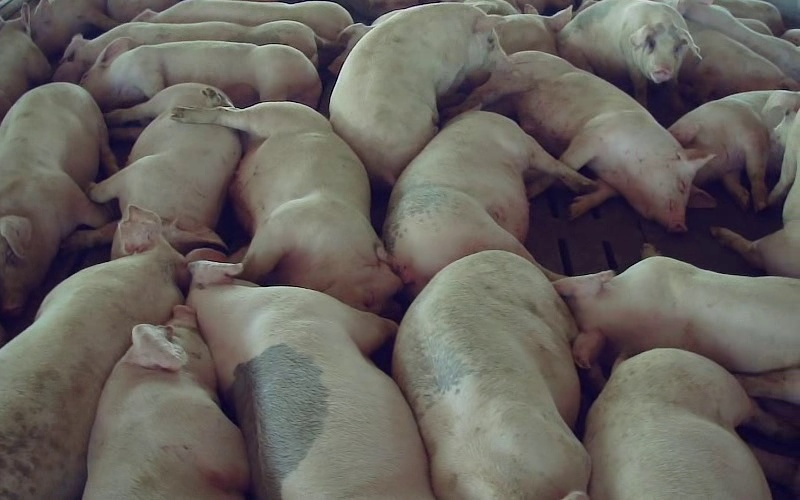pig: (0, 206, 224, 499), (188, 261, 432, 499), (393, 251, 589, 499), (174, 102, 400, 311), (463, 51, 710, 230), (383, 112, 592, 293), (83, 305, 249, 499), (330, 3, 505, 185), (584, 348, 786, 499), (554, 257, 799, 372), (0, 83, 115, 314), (90, 84, 240, 252), (81, 38, 321, 111), (53, 20, 317, 82), (558, 0, 698, 105), (668, 91, 770, 210), (678, 20, 799, 103), (677, 0, 799, 82), (133, 0, 353, 40)
